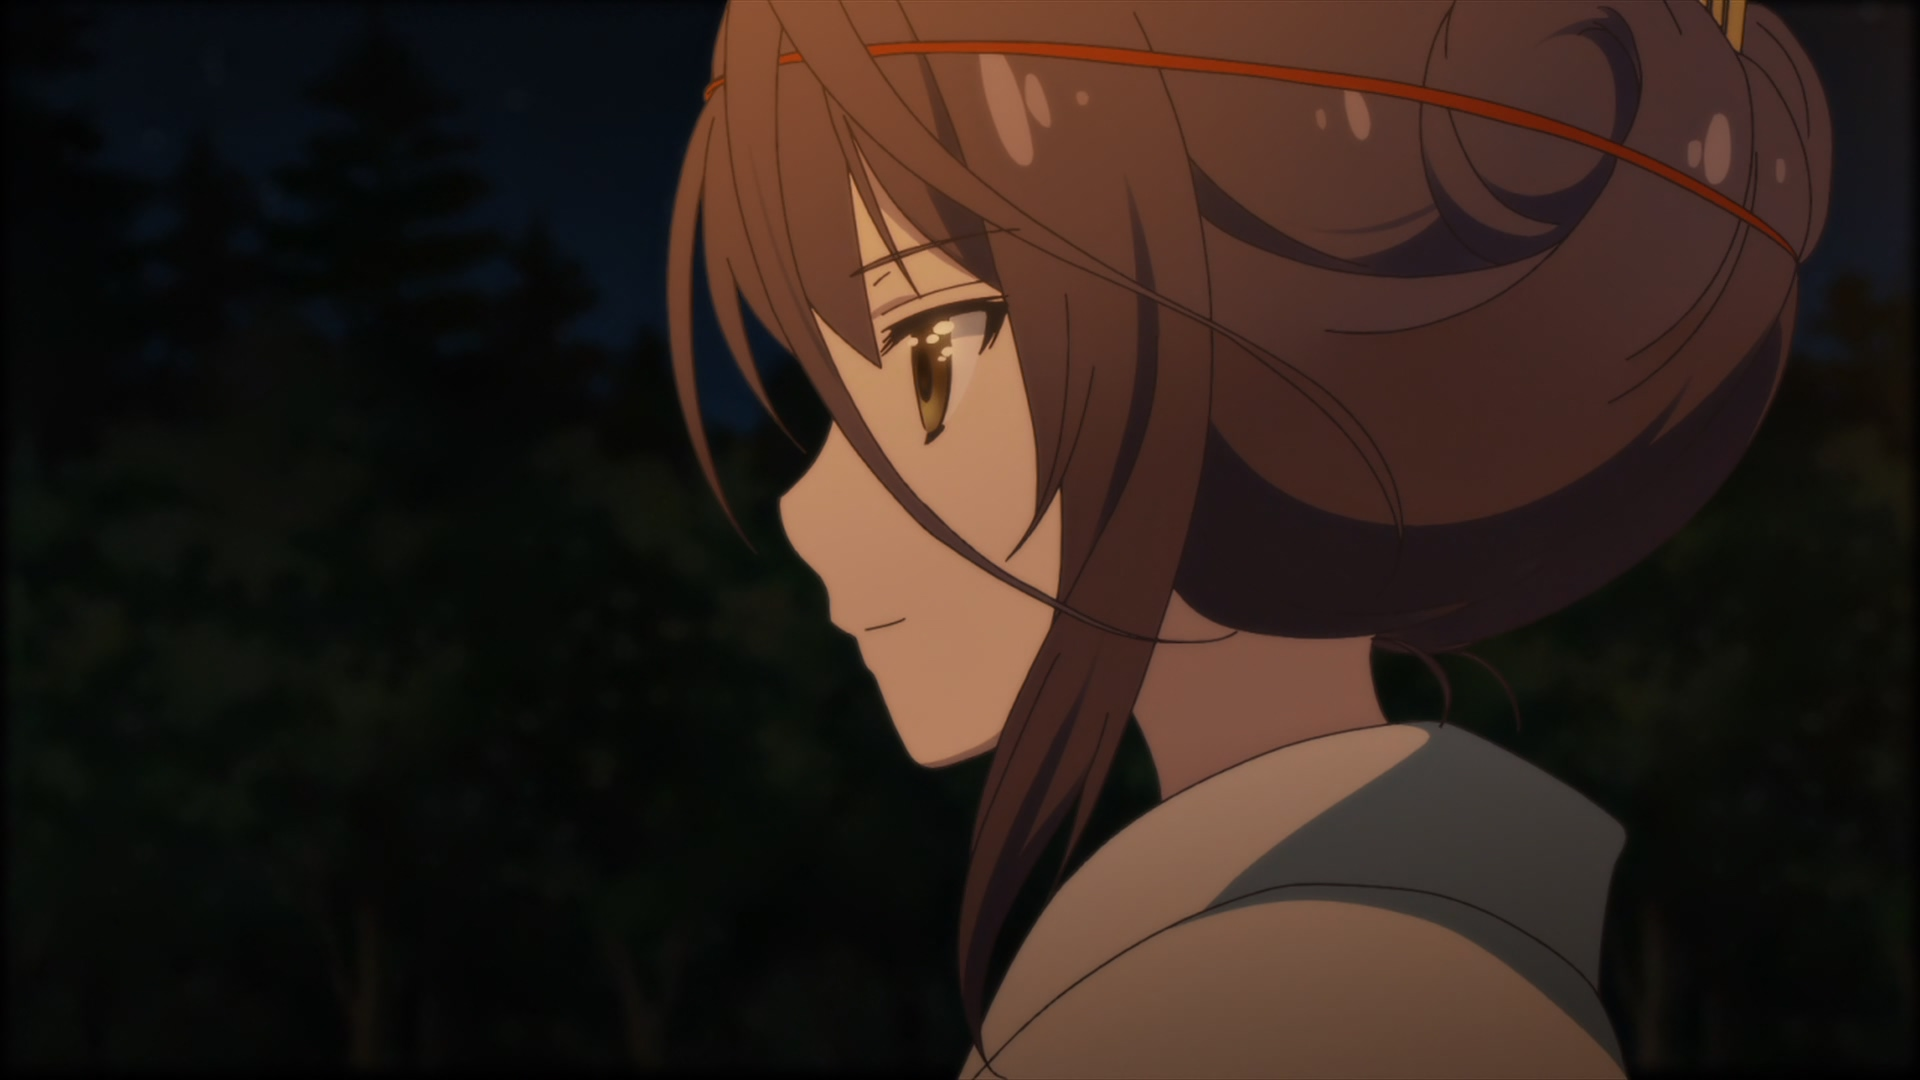皋: (669, 1, 1829, 1080)
